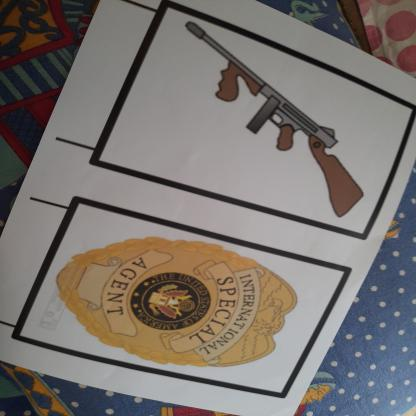Bootlegger: (172, 13, 375, 217)
G-man: (52, 233, 313, 377)
